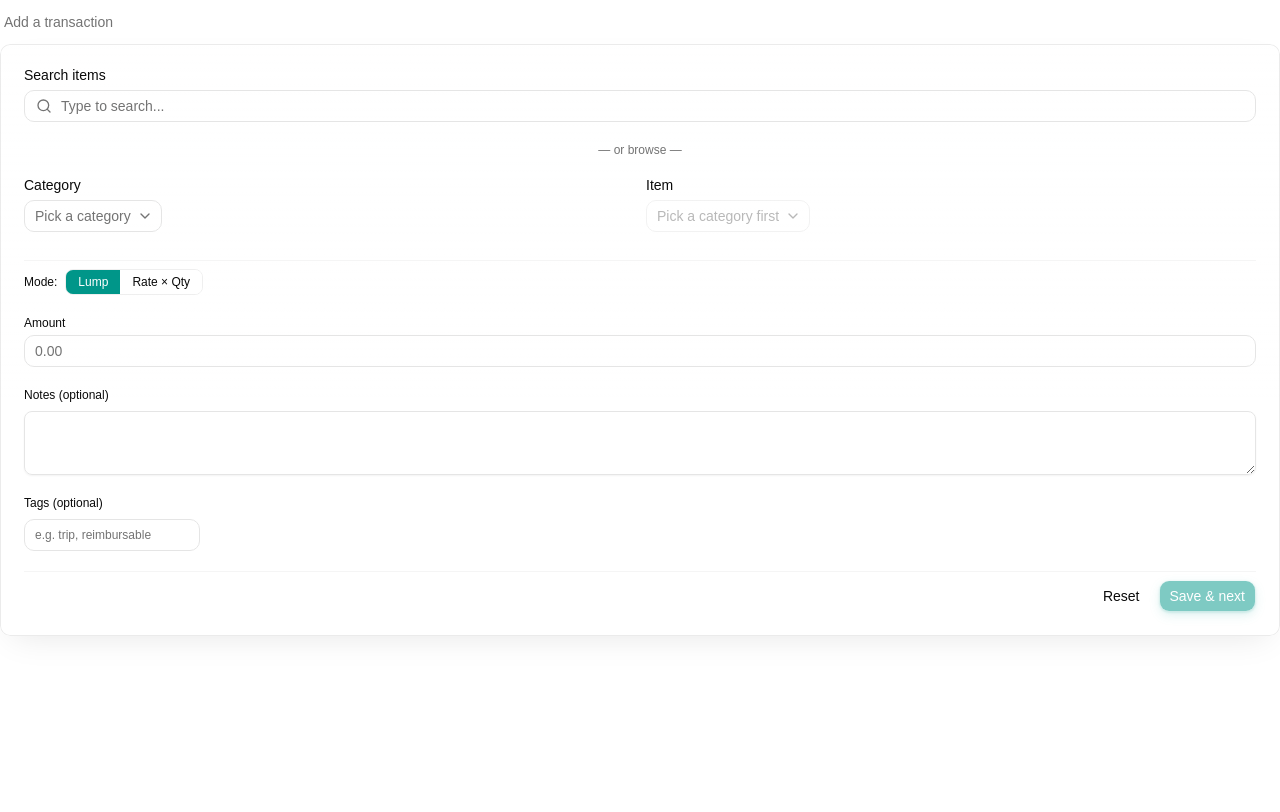
Test: TransactionEntryForm duplicate warning › warns when the same item and amount were already logged that day, but still allows it
This screenshot has width=1280, height=812.
Type "Petr" into the field labelled "Search items". click: (640, 106)
box: 24,90 -> 1256,122
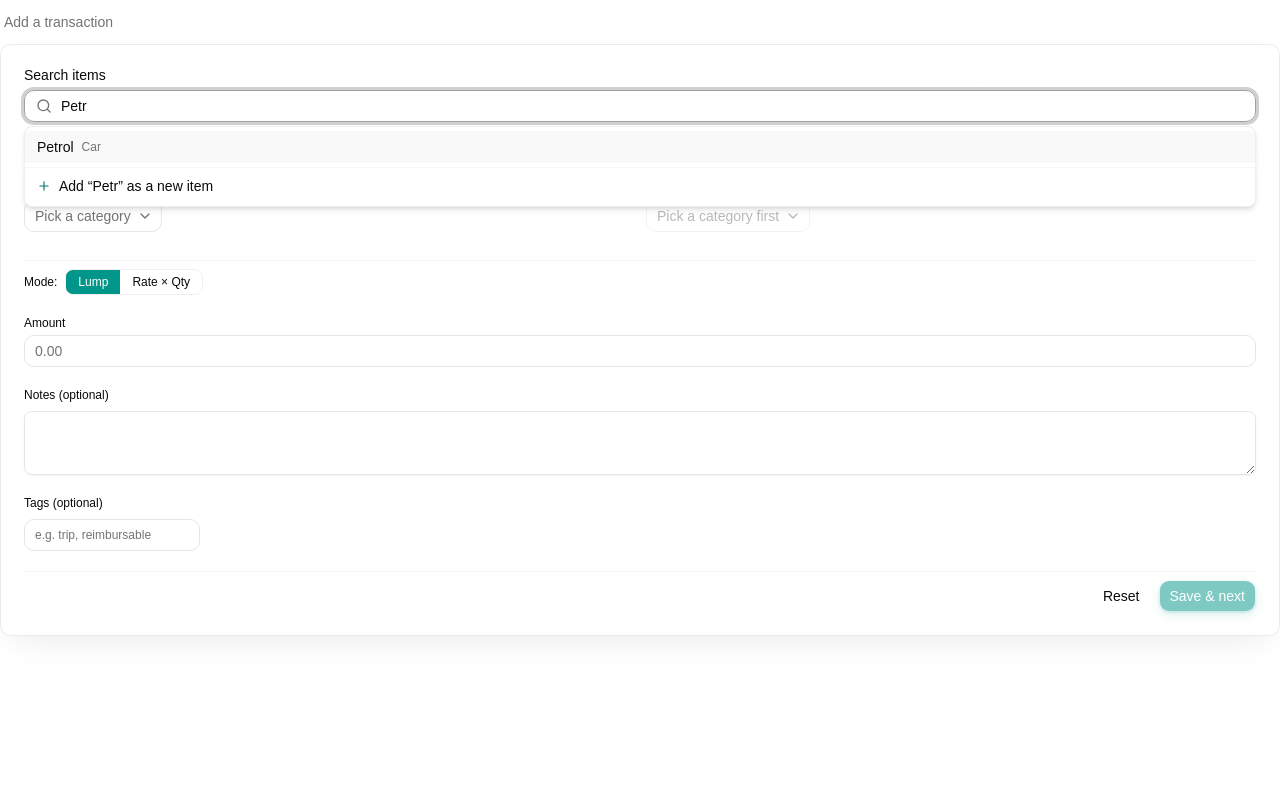
Click the button "Petrol Car". click: click(55, 147)
box: 25,131 -> 1255,163
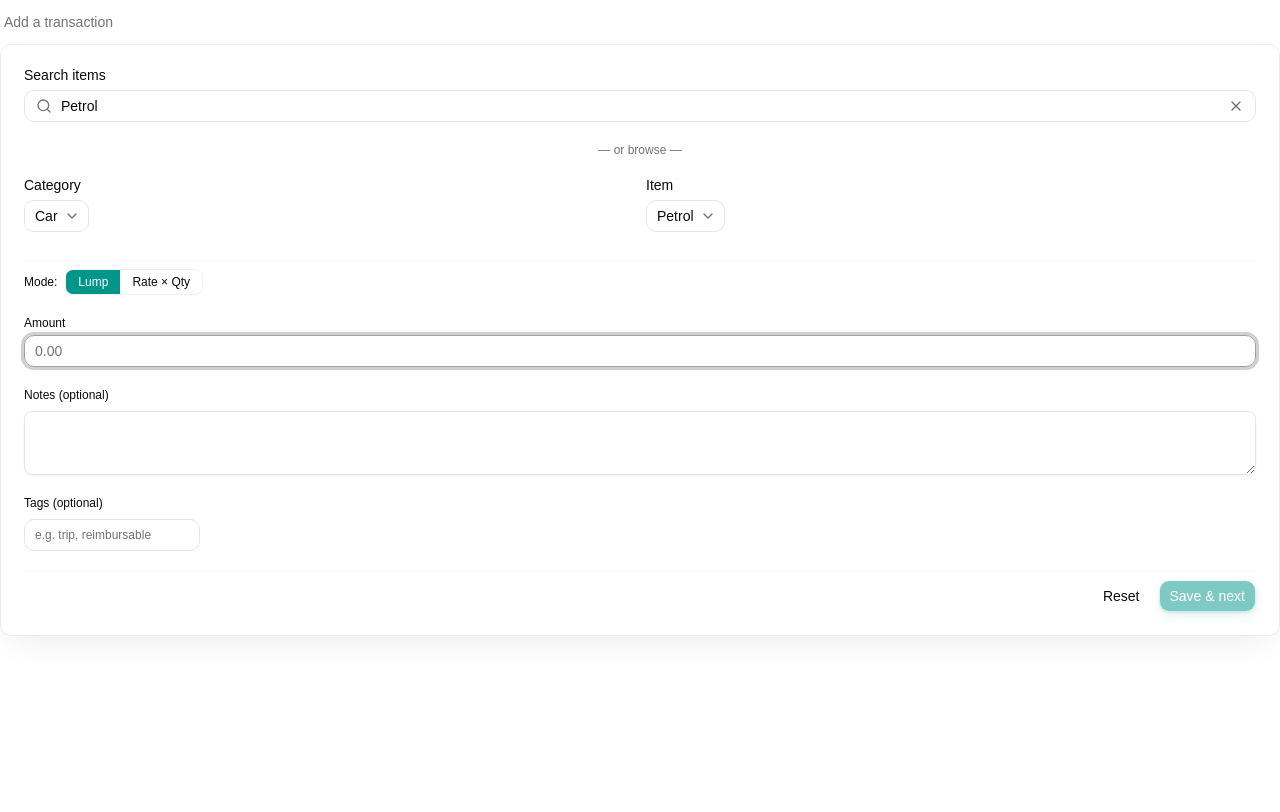
Type "4250" into the field labelled "Amount". click: (640, 351)
box: 24,335 -> 1256,367
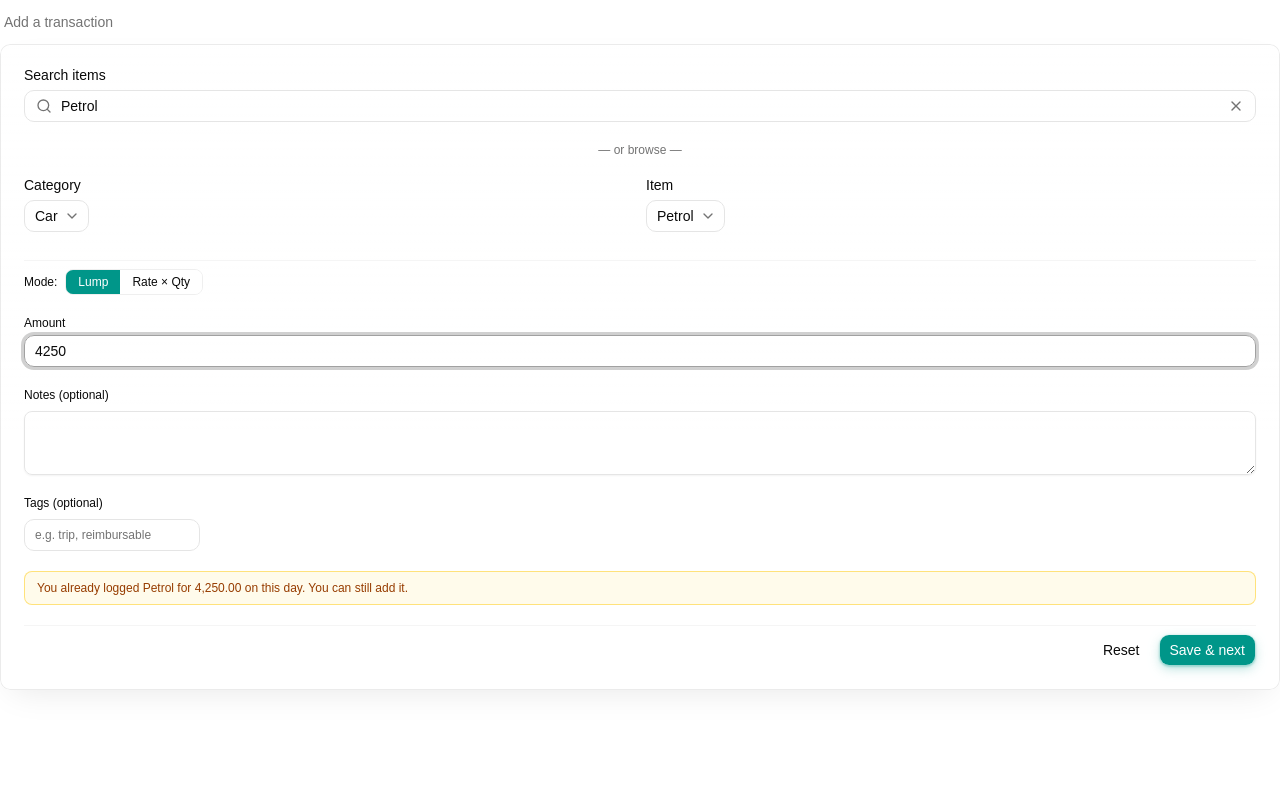
expect the message shows "You already logged Petrol for 4,250.00": met, box 24,571 -> 1256,605
expect the button "Save & next" is enabled: met, box 1158,634 -> 1256,666
